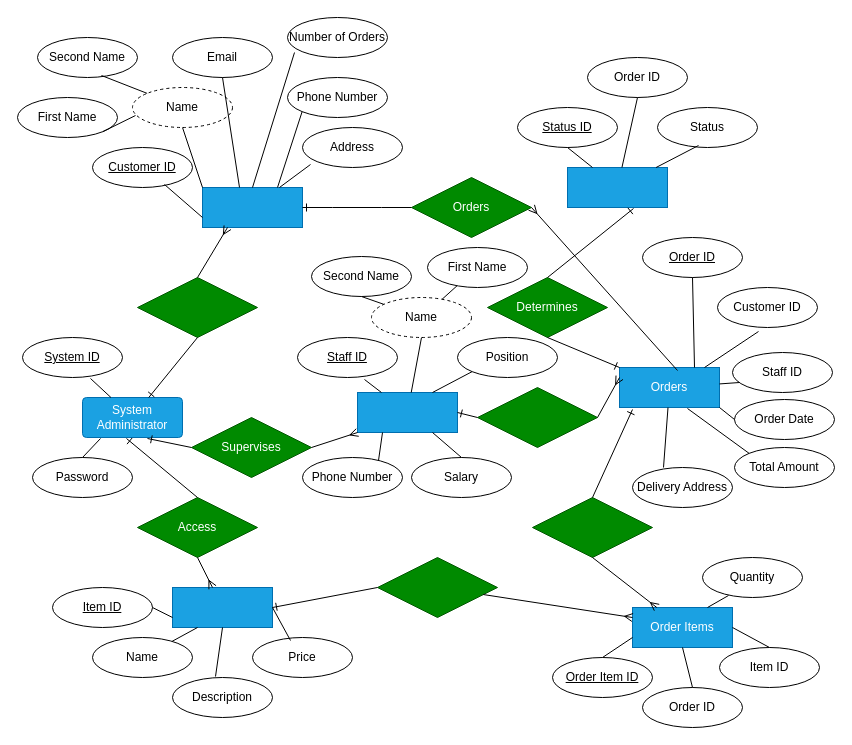
This 852x745 diagram has some shape labels left out. The shapes that lost their labels are listed below. From the top down, each one's centre as x and y in pixels, then its label:
At (252,207): "Customers".
At (617,187): "Delivery Status".
At (197,307): "Manages".
At (407,412): "Staff".
At (537,417): "Prepares".
At (592,527): "Has".
At (222,607): "Menu Items".
At (437,587): "Consists".
